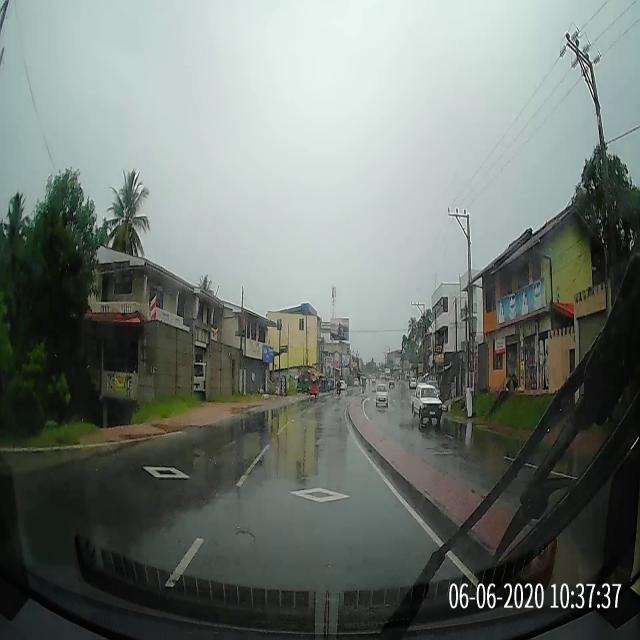Romb: (288, 486, 353, 504), (142, 466, 193, 479)
